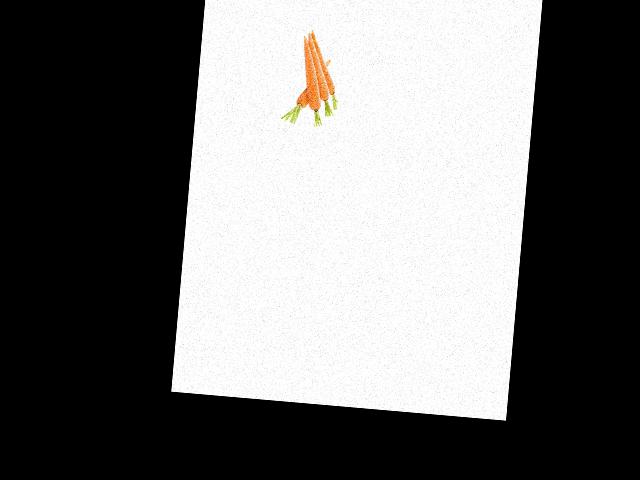carrot: (287, 84, 313, 117)
